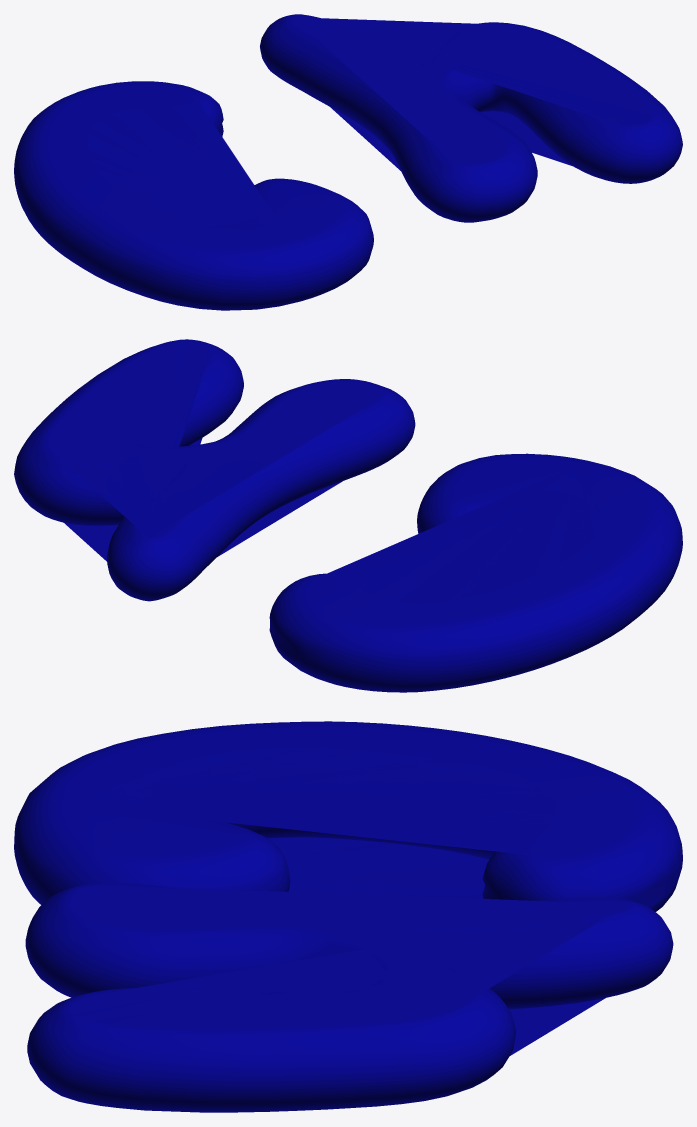
3 renders of one model, top to bottom at view 1: azimuth 30°, elevation 25°; view 2: azimuth 150°, elevation 25°; view 3: azimuth 270°, elevation 25°, orthographic. The views are drawn at different scales.
Parts seen in each view (by area): view 1: Curve, Curve.030; view 2: Curve, Curve.030; view 3: Curve.030, Curve.
Boxes of the visible parts, x1,y1,x2,y2 form: Curve: (14, 81, 373, 310); Curve.030: (260, 14, 682, 222); Curve: (269, 453, 682, 692); Curve.030: (14, 339, 415, 601); Curve.030: (25, 882, 673, 1112); Curve: (14, 721, 682, 911).
Size of the model in its own units: 439 by 66.12 by 324.
Materials: 1 (1 with a texture image).
